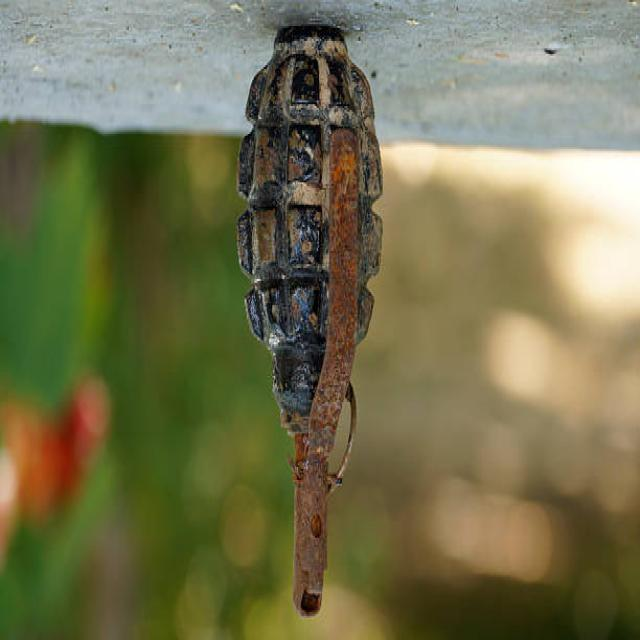grenade: (229, 18, 394, 627)
